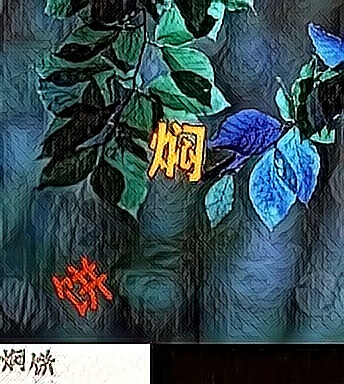B1FD: (50, 254, 116, 318)
ECCB: (143, 121, 209, 185)
